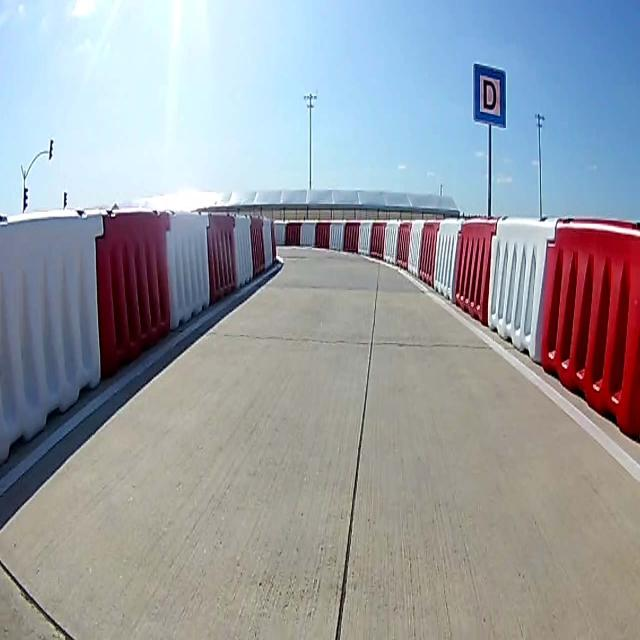durak: (472, 61, 507, 128)
